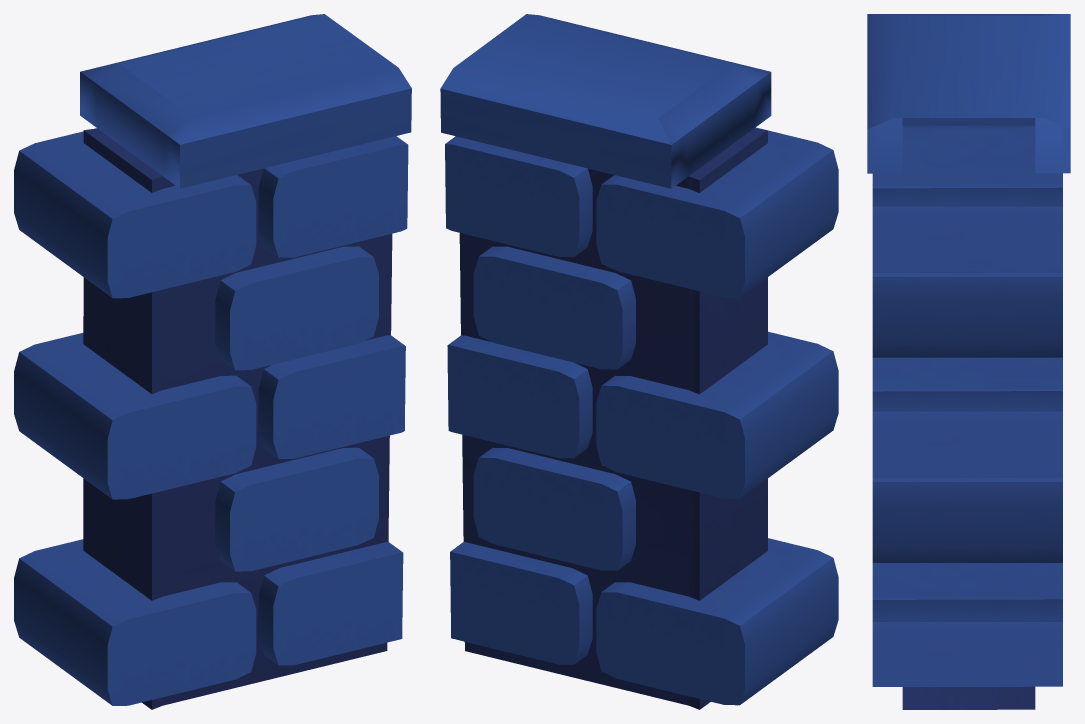
The model's file is SM_WallCornerConnected_02.fbx.
3 renders of one model, left to right at view 1: azimuth 30°, elevation 25°; view 2: azimuth 150°, elevation 25°; view 3: azimuth 270°, elevation 25°, orthographic.
Visible parts, largest first — view 1: polySurface276; view 2: polySurface276; view 3: polySurface276.
Part boxes in pixels (left/top/right/bottom): polySurface276: left=14, top=14, right=411, bottom=709; polySurface276: left=440, top=14, right=838, bottom=709; polySurface276: left=867, top=14, right=1070, bottom=709.
Bounding box in the file's own units: 61.23 × 113 × 35.13.
